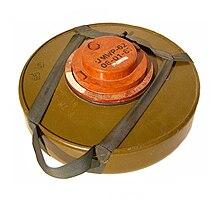TM 62: (18, 23, 200, 175)
